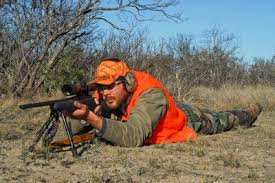Gun: (26, 77, 103, 116)
